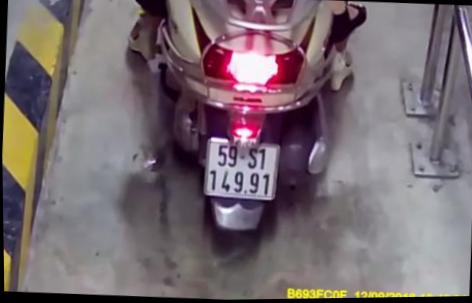LP: (199, 132, 283, 206)
